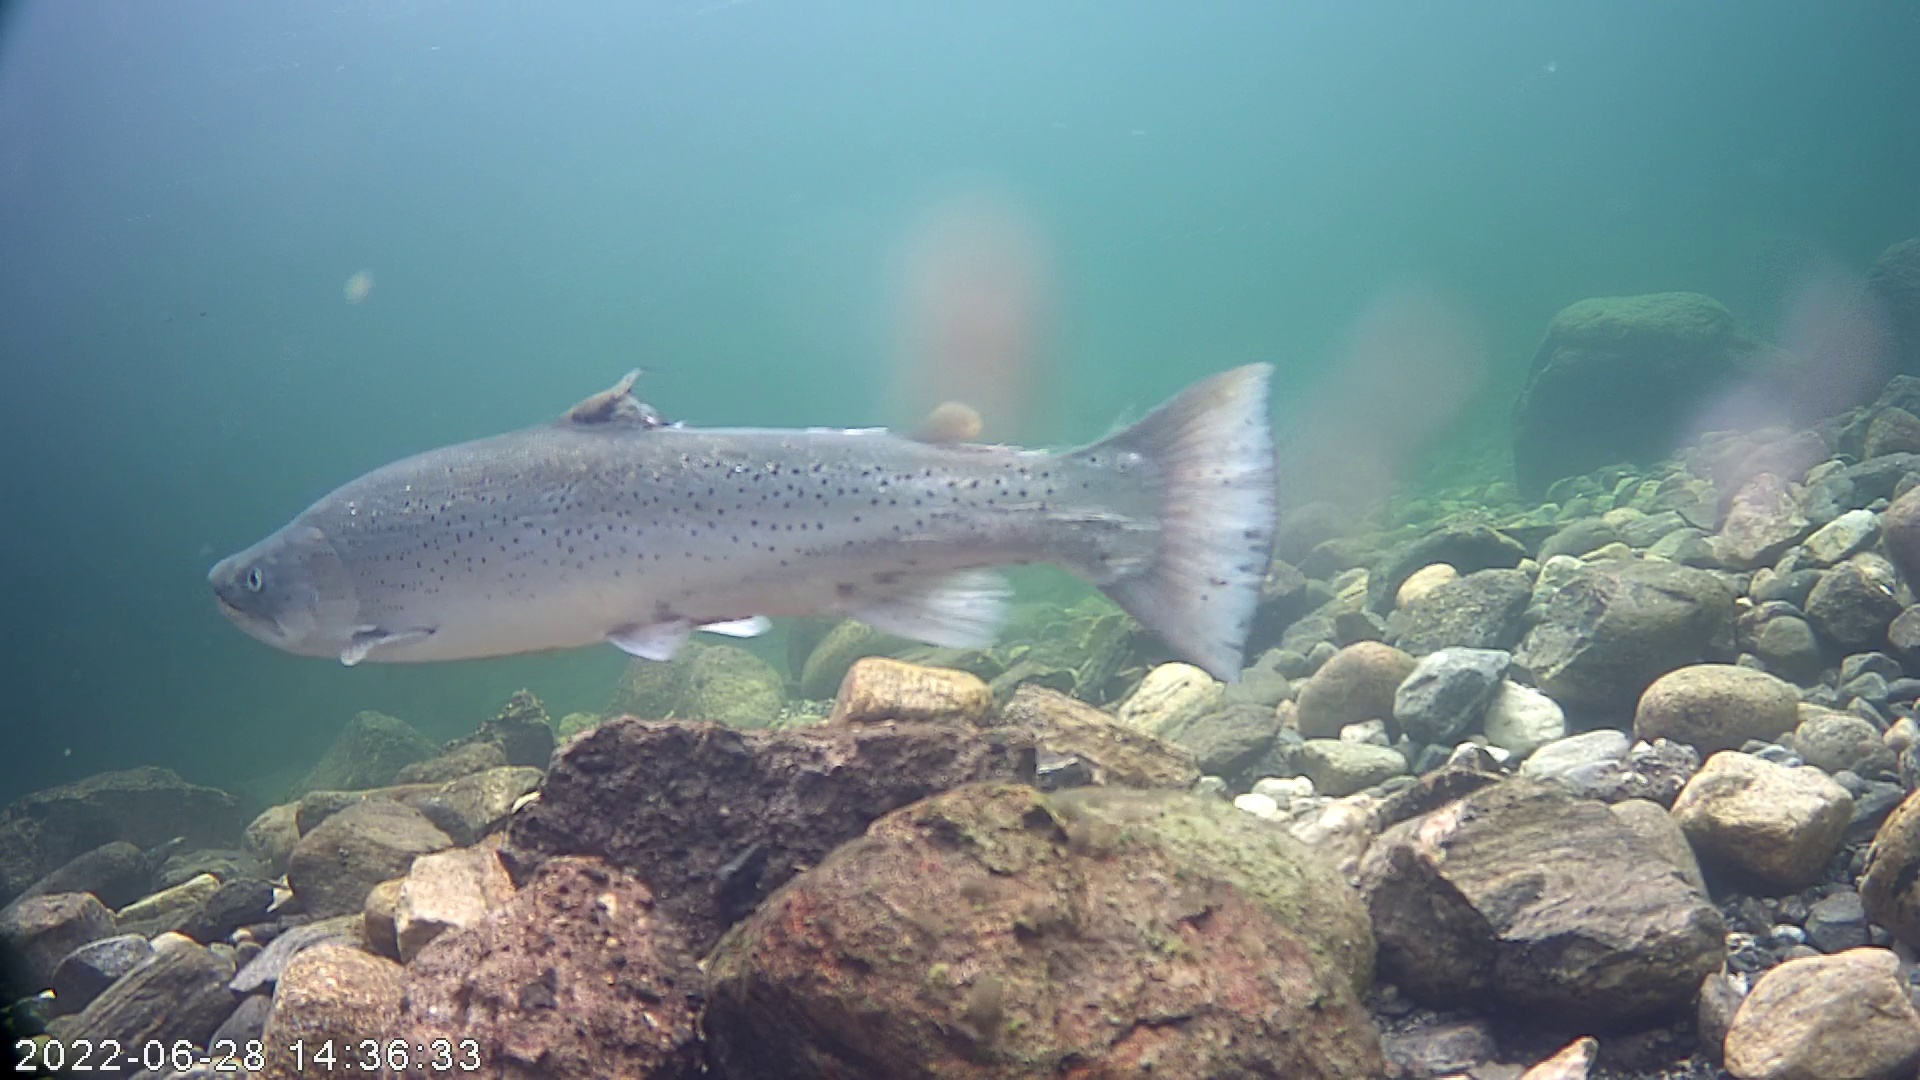salmon: (228, 273, 1313, 725)
